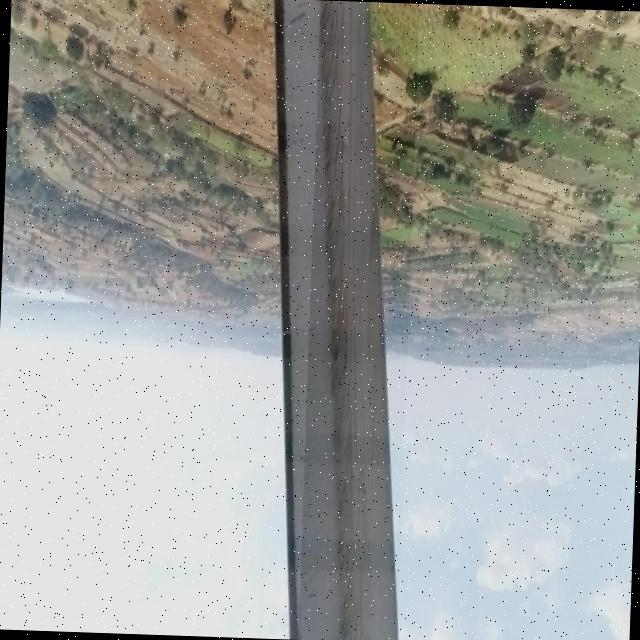Dirt: (279, 0, 400, 640)
